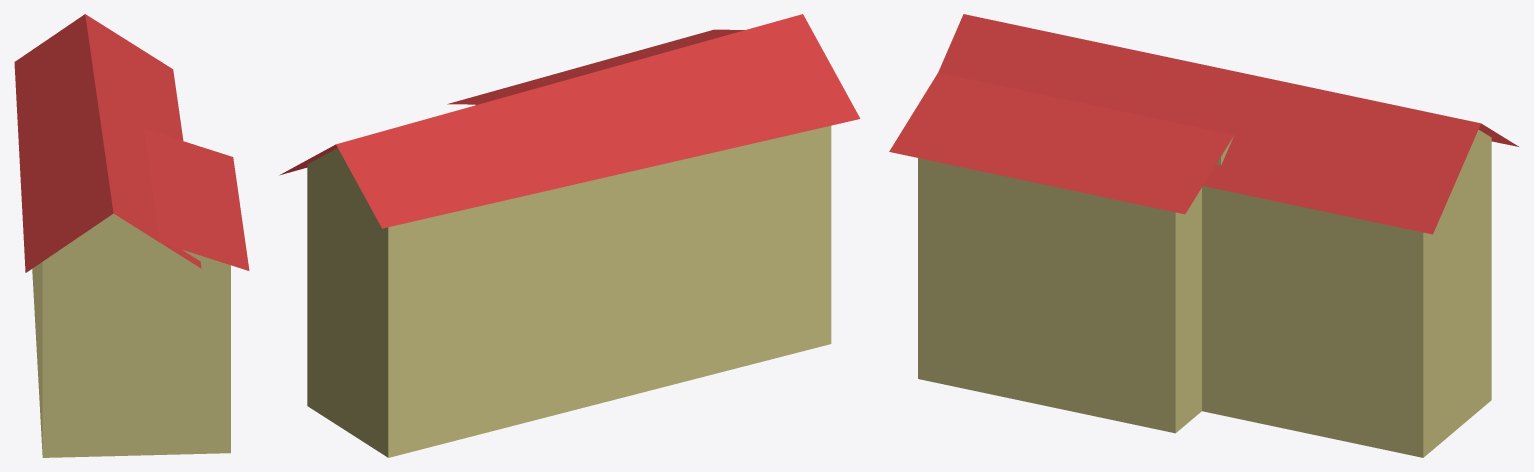
The picture shows the model from 3 angles, left to right: view 1: azimuth 30°, elevation 25°; view 2: azimuth 150°, elevation 25°; view 3: azimuth 270°, elevation 25°; orthographic projection. The views are drawn at different scales.
Bounding box in the file's own units: 10.52 × 14.69 × 7.86.
